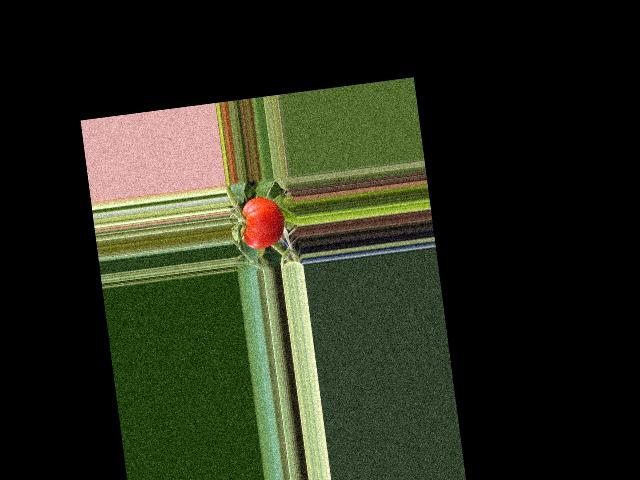tomato: (239, 194, 287, 251)
